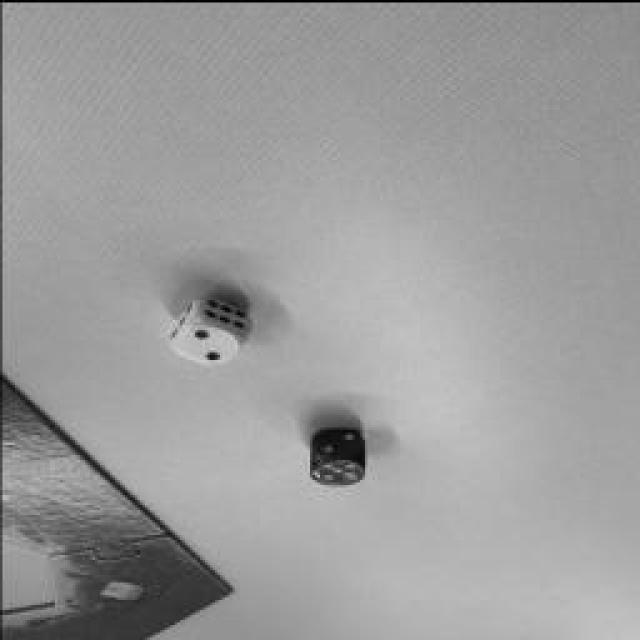dice_2: (172, 321, 238, 361)
dice_4: (311, 456, 364, 484)
